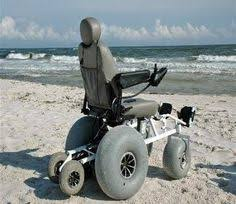wheelchair: (51, 50, 188, 197)
